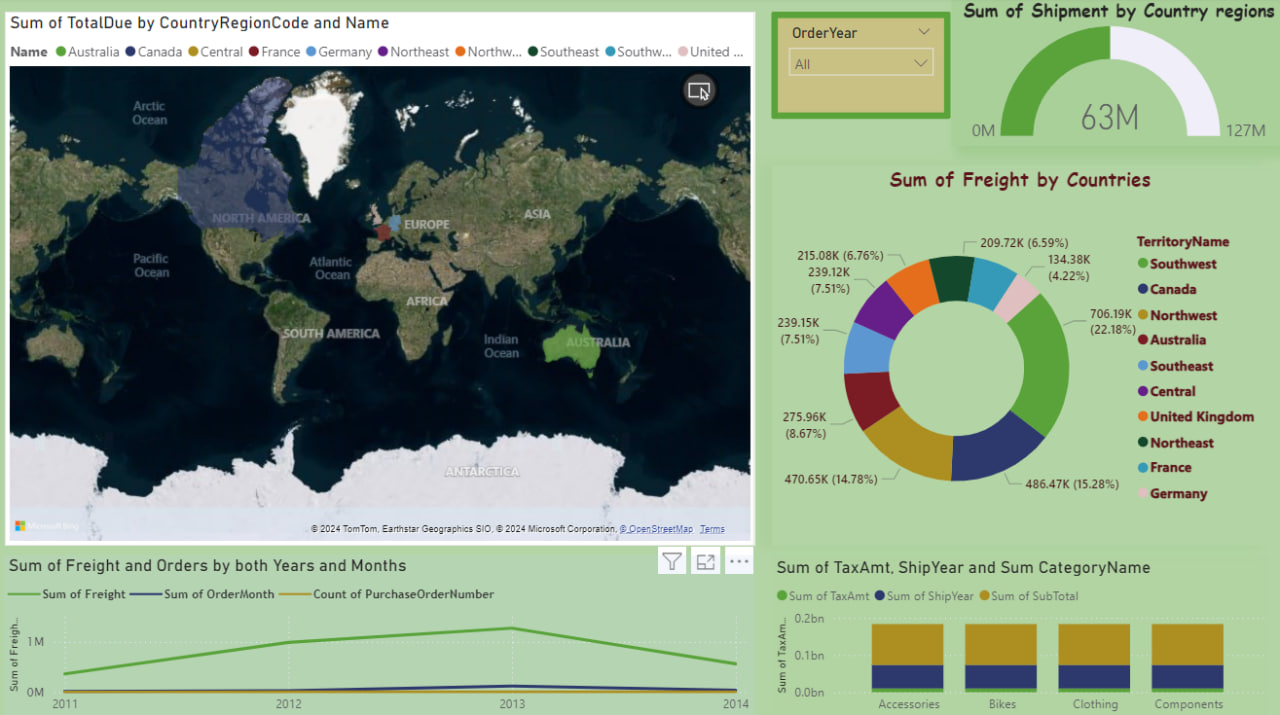

Layout of this report page (visuals, bound fields, positions):
{"tool":"powerbi","page":{"name":"Country and Freight","canvas":[1280,720],"ordinal":1},"visuals":[{"type":"slicer","fields":{"Values":["SalesOrderAnalysis.OrderYear"]},"box":[770.1,14.3,177.9,106.5],"z":0},{"type":"filledMap","fields":{"Series":["TerritorySalesData.Name"],"Category":["TerritorySalesData.CountryRegionCode"]},"box":[9.1,14.3,744.2,529.9],"z":1000},{"type":"donutChart","title":"Sum of Freight by Countries","fields":{"Category":["SalesOrderAnalysis.TerritoryName"],"Y":["Sum(SalesOrderAnalysis.Freight)"]},"box":[770.1,166.2,493.5,377.9],"z":2000},{"type":"lineChart","title":"Sum of Freight and Orders by both Years and Months","fields":{"Y":["Sum(SalesOrderAnalysis.Freight)","Sum(SalesOrderAnalysis.OrderMonth)","CountNonNull(SalesOrderAnalysis.PurchaseOrderNumber)"],"Category":["SalesOrderAnalysis.OrderYear"]},"box":[9,554,744,166],"z":3000},{"type":"lineStackedColumnComboChart","title":"Sum of TaxAmt, ShipYear and Sum CategoryName","fields":{"Category":["ProductCategories.CategoryName"],"Y":["Sum(SalesOrderAnalysis.TaxAmt)","Sum(SalesOrderAnalysis.ShipYear)","Sum(SalesOrderAnalysis.SubTotal)"]},"box":[770.1,554.5,493.5,164.9],"z":4000},{"type":"gauge","title":"Sum of Shipment by Country regions","fields":{"Y":["Sum(SalesOrderAnalysis.ShipYear)"]},"box":[948.1,0,332.5,148.1],"z":5000}]}

Visuals, with their boxes in screenshot pixels (x1, y1, x2, y2), scaled from the page's 1280x720 canvas onto the 1280x715 screenshot:
slicer - SalesOrderAnalysis.OrderYear: bbox=[770, 14, 948, 120]
filledMap - TerritorySalesData.Name x TerritorySalesData.CountryRegionCode: bbox=[9, 14, 753, 540]
"Sum of Freight by Countries" donutChart: bbox=[770, 165, 1264, 540]
"Sum of Freight and Orders by both Years and Months" lineChart: bbox=[9, 550, 753, 714]
"Sum of TaxAmt, ShipYear and Sum CategoryName" lineStackedColumnComboChart: bbox=[770, 551, 1264, 714]
"Sum of Shipment by Country regions" gauge: bbox=[948, 0, 1279, 147]
